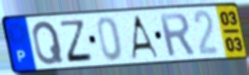0: (95, 15, 124, 63)
2: (192, 8, 221, 58)
A: (129, 14, 161, 60)
Q: (31, 19, 66, 67)
R: (157, 11, 197, 59)
Z: (58, 19, 95, 64)
